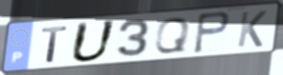3: (116, 19, 153, 59)
K: (235, 9, 269, 49)
P: (191, 10, 232, 55)
Q: (152, 16, 192, 55)
T: (40, 24, 71, 64)
U: (67, 19, 119, 65)
